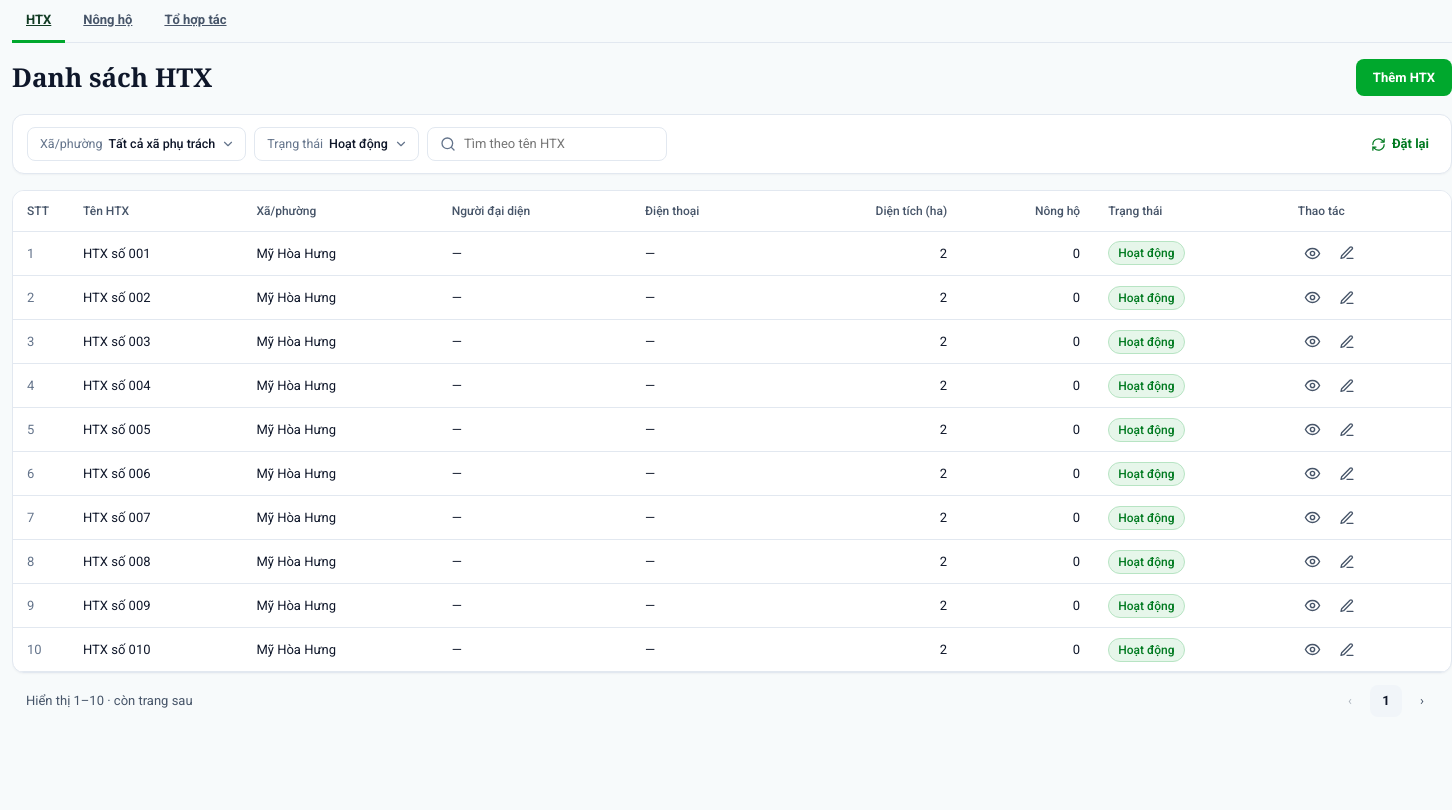
Test case: #67 phân trang máy chủ theo con trỏ › đổi bộ lọc (tìm theo tên) → về trang 1, bỏ cursor
The image size is (1452, 810).
Expected: the text "HTX số 001" is shown, x1=69 y1=232 x2=242 y2=276
Click the button named "Trang sau" at (1422, 701), box x1=1406 y1=685 x2=1438 y2=717
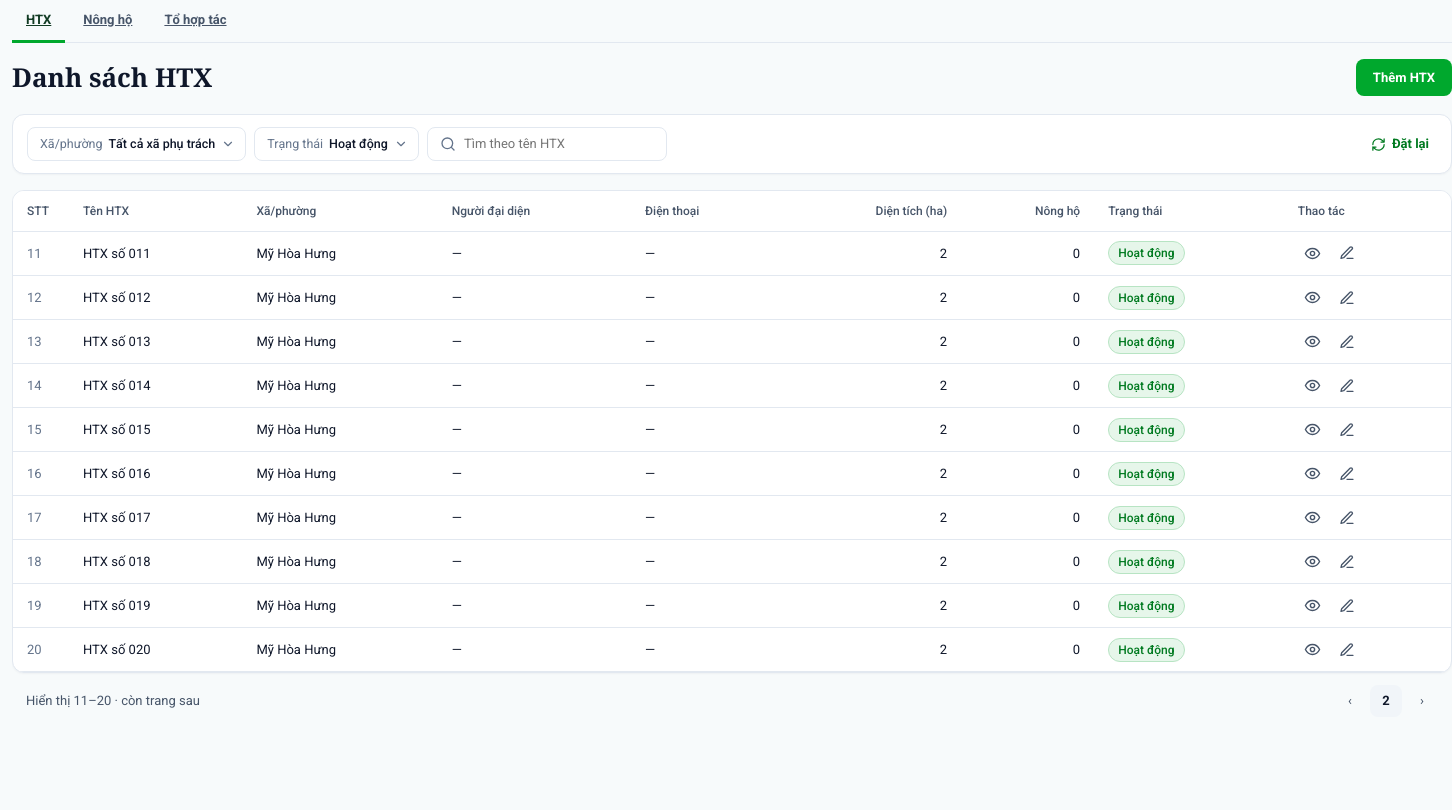
Now the text "HTX số 011" is shown, box x1=69 y1=232 x2=242 y2=276
Type "05" into the search field with placeholder "Tìm theo tên HTX" at (559, 144), box x1=464 y1=134 x2=654 y2=154
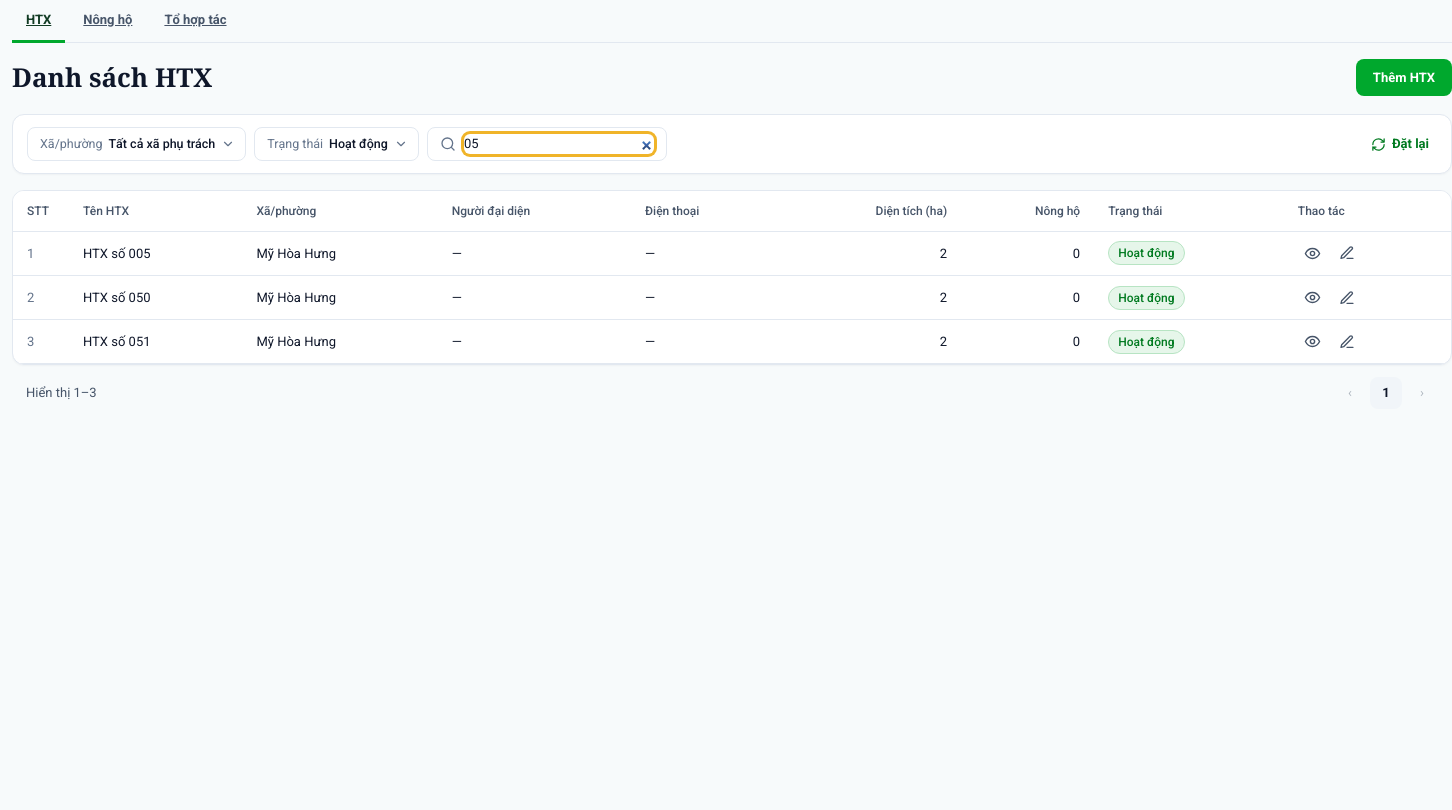
Now the button named "Trang 1" is shown, box x1=1370 y1=377 x2=1402 y2=409
Now the text "HTX số 050" is shown, box x1=69 y1=276 x2=242 y2=320
Now the button named "Trang trước" is disabled, box x1=1334 y1=377 x2=1366 y2=409
